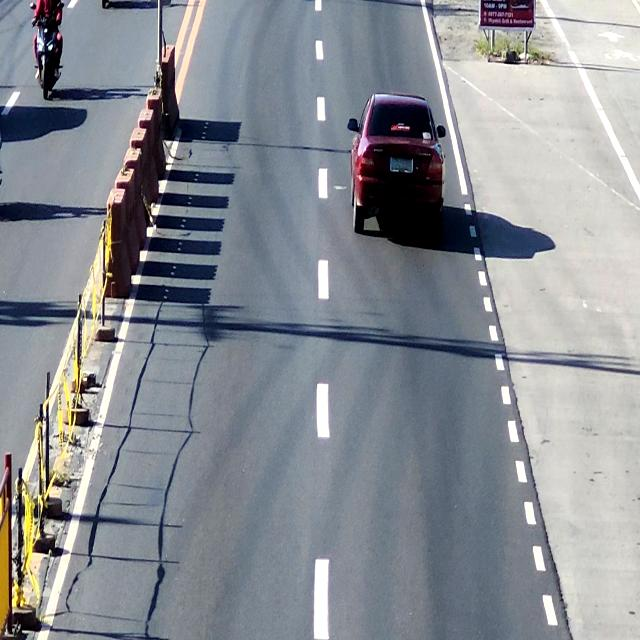Car: (349, 93, 447, 236)
License-Plate: (390, 156, 416, 180)
